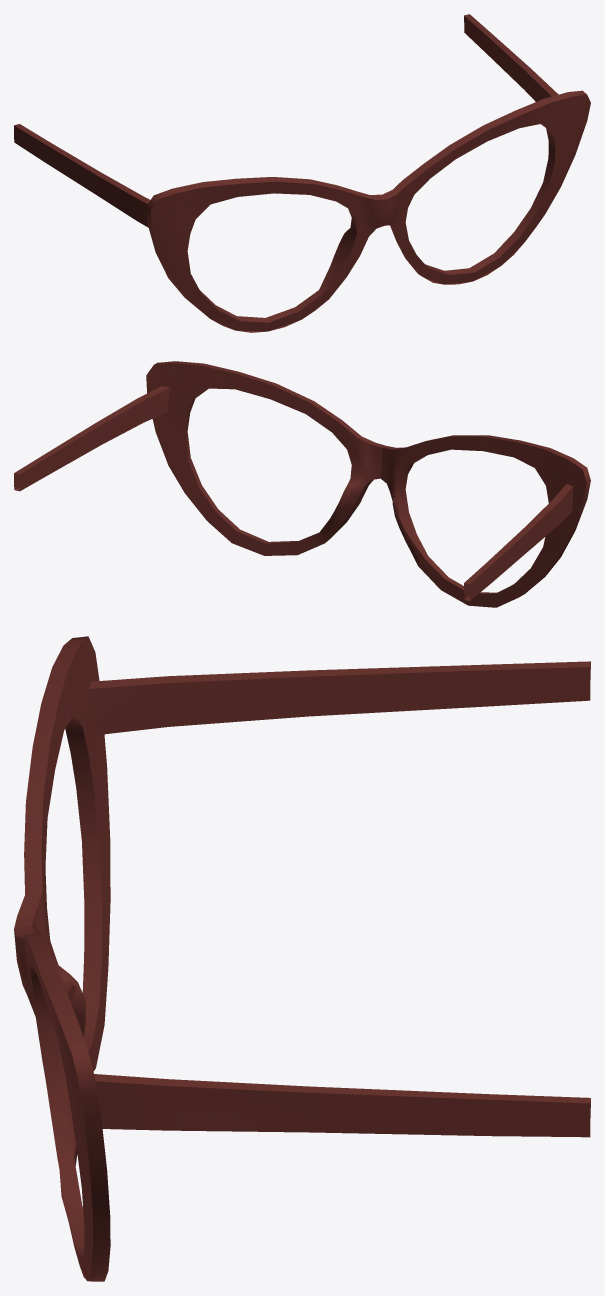
Rendered from cat-eye-mahroon-model.gltf.
3 renders of one model, top to bottom at view 1: azimuth 30°, elevation 25°; view 2: azimuth 150°, elevation 25°; view 3: azimuth 270°, elevation 25°, orthographic. The views are drawn at different scales.
Visible parts, largest first — view 1: oprava_Material_0; view 2: oprava_Material_0; view 3: oprava_Material_0.
Part boxes in pixels (box(x1,y1,x2,y2)): oprava_Material_0: box(14, 14, 590, 332); oprava_Material_0: box(14, 361, 590, 607); oprava_Material_0: box(14, 636, 590, 1281).
Bounding box in the file's own units: 0.1585 × 0.056 × 0.0874.
